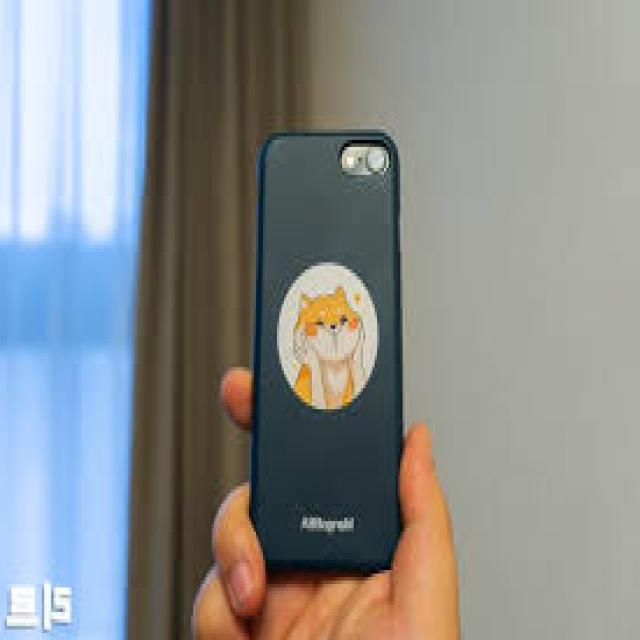mobile: (229, 111, 415, 593)
